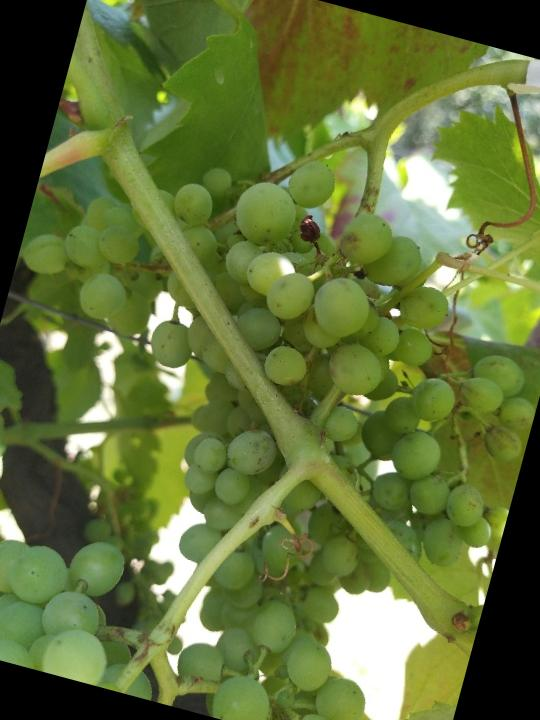grape: (0, 95, 540, 712)
